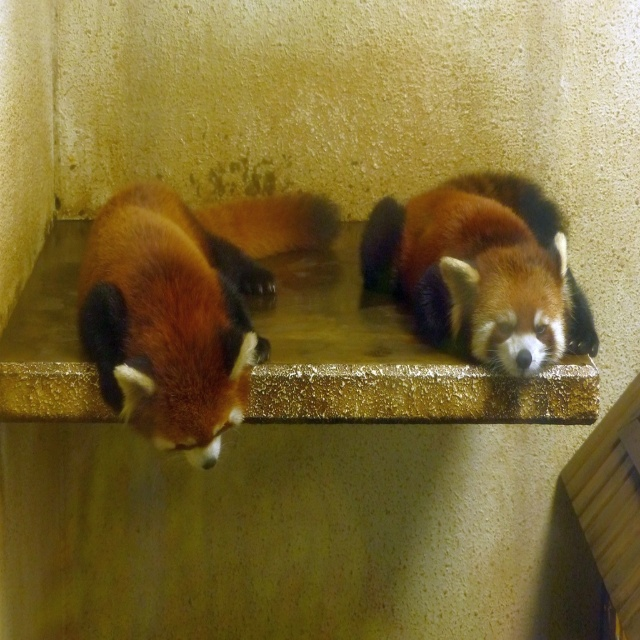Red panda: (77, 174, 344, 483), (359, 168, 600, 380)
